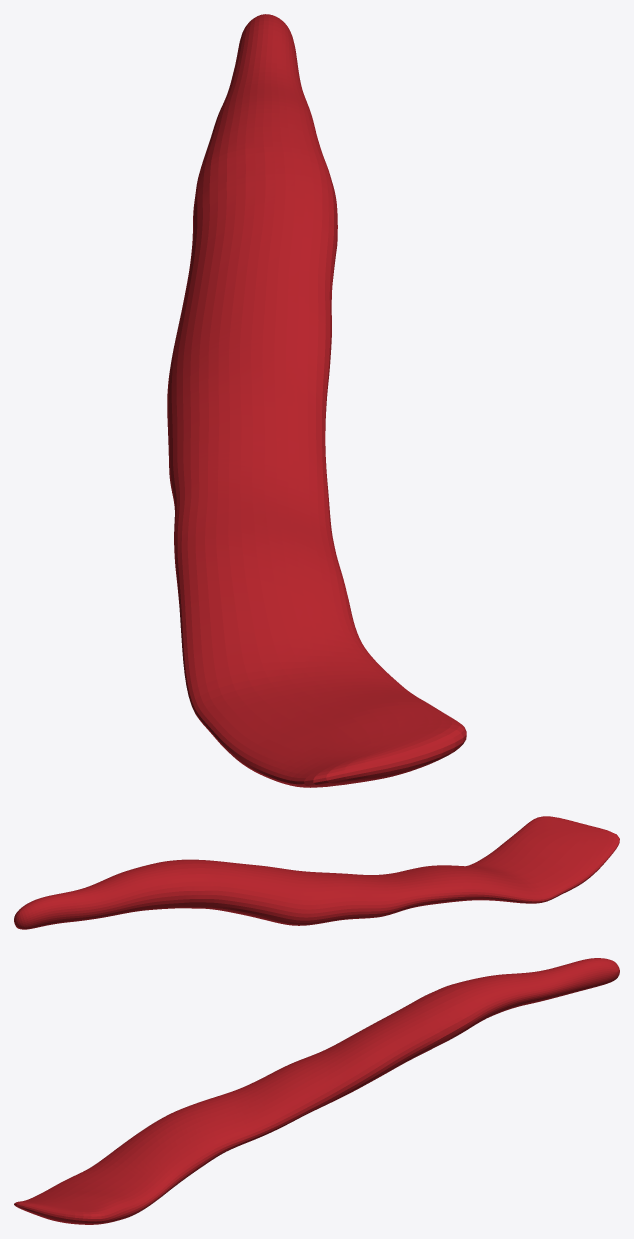
Rendered from frau2-408.glb.
3 views of the same model, one above another, from view 1: azimuth 30°, elevation 25°; view 2: azimuth 150°, elevation 25°; view 3: azimuth 330°, elevation 25° (orthographic). The views are drawn at different scales.
Parts seen in each view (by area): view 1: VH_F_inferior_rectus_extraocular_muscle_R; view 2: VH_F_inferior_rectus_extraocular_muscle_R; view 3: VH_F_inferior_rectus_extraocular_muscle_R.
Part boxes in pixels (x1,y1,x2,y2): VH_F_inferior_rectus_extraocular_muscle_R: (167, 14, 466, 787); VH_F_inferior_rectus_extraocular_muscle_R: (14, 816, 619, 929); VH_F_inferior_rectus_extraocular_muscle_R: (14, 958, 619, 1224).
Size of the model in its own units: 0.0243 by 0.0092 by 0.0449.
